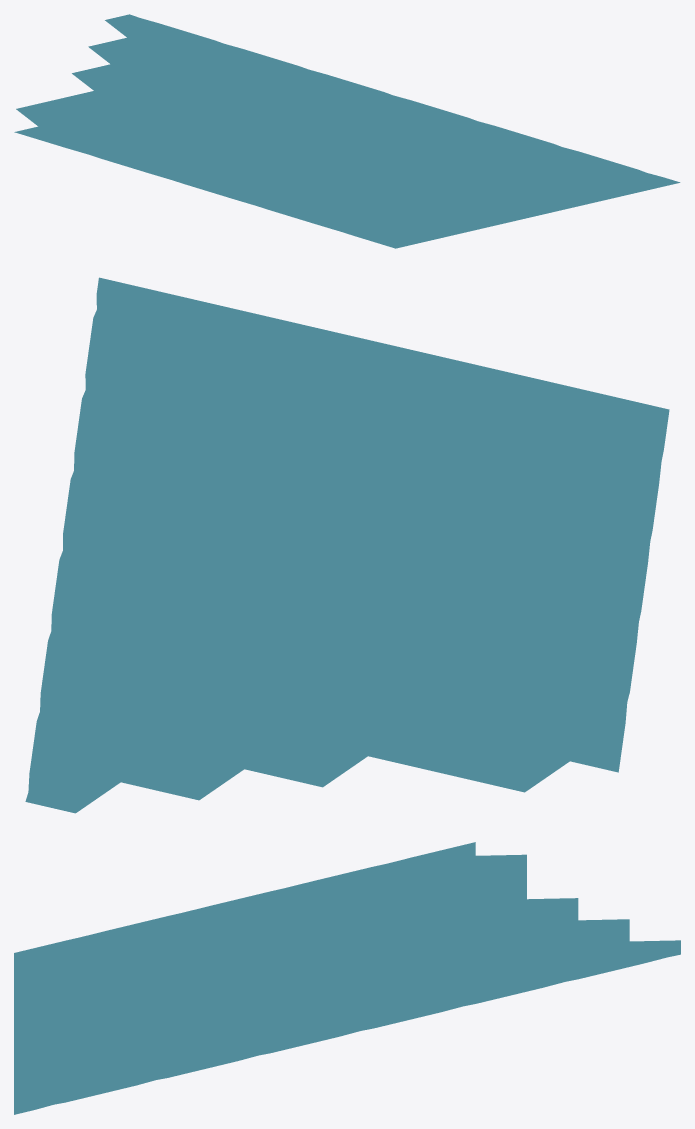
3 views of the same model, one above another, from view 1: azimuth 30°, elevation 25°; view 2: azimuth 150°, elevation 25°; view 3: azimuth 270°, elevation 25° (orthographic). The views are drawn at different scales.
Visible parts, largest first — view 1: prototype; view 2: prototype; view 3: prototype.
Boxes of the visible parts, box(x1,y1,x2,y2) form: prototype: box(14, 14, 680, 248); prototype: box(25, 277, 669, 813); prototype: box(14, 842, 680, 1114).
Size of the model in its own units: 23.66 by 0.7873 by 26.
